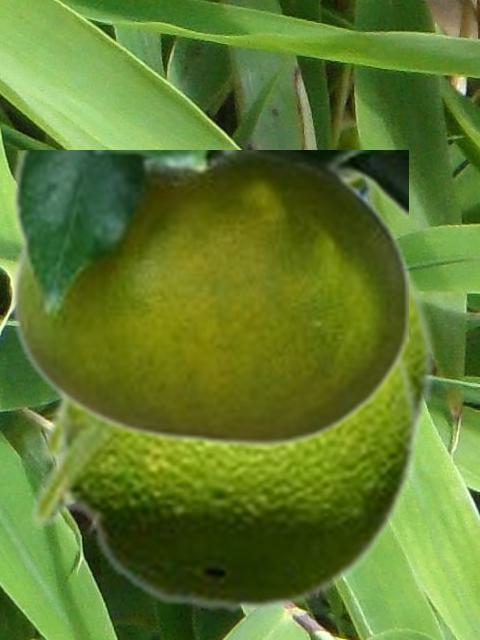dalandan: (11, 150, 407, 447), (36, 178, 437, 471), (26, 351, 422, 614)
